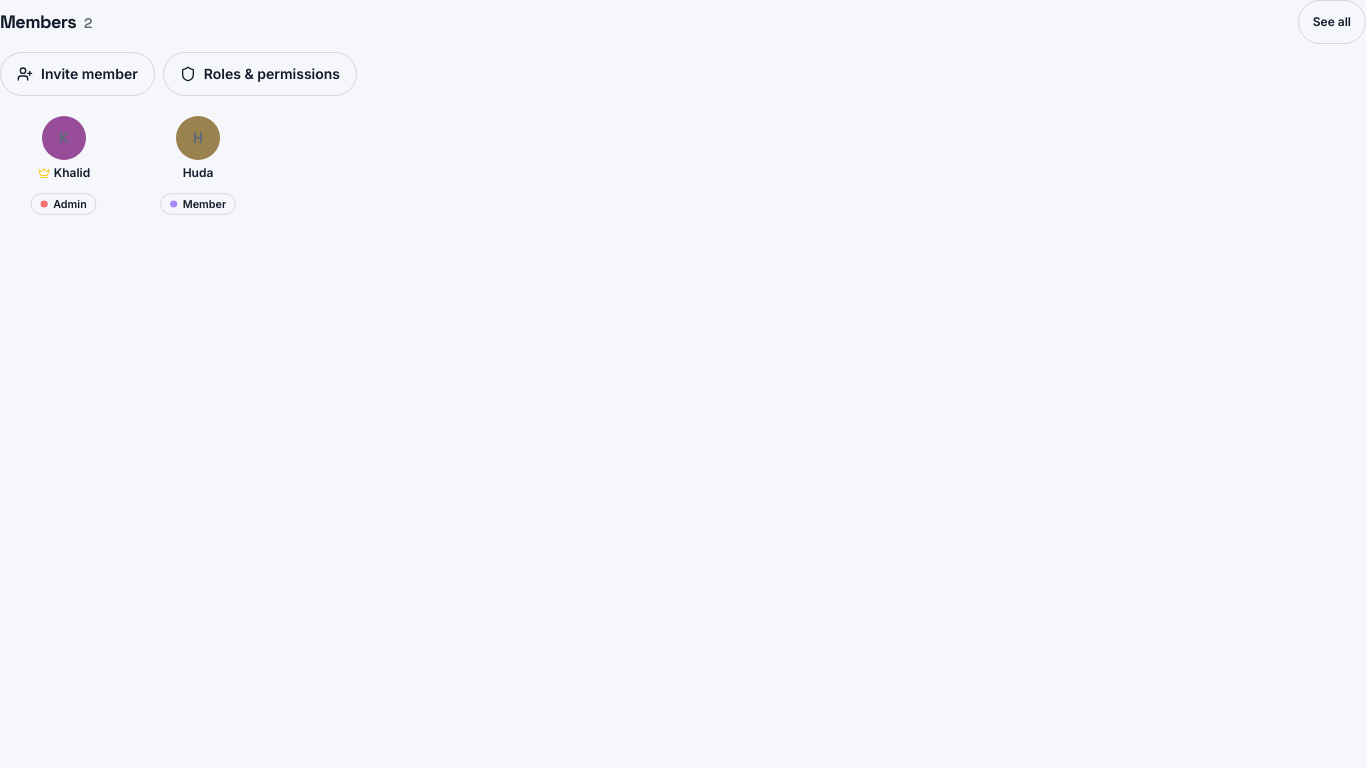
it: Members row › shows where Member works for someone limited to some worlds
What coordinates should you click on to do the following:
click the button with aria-label "Huda’s roles"
I would click on:
 (198, 204)
Its box is [156,182,240,226].
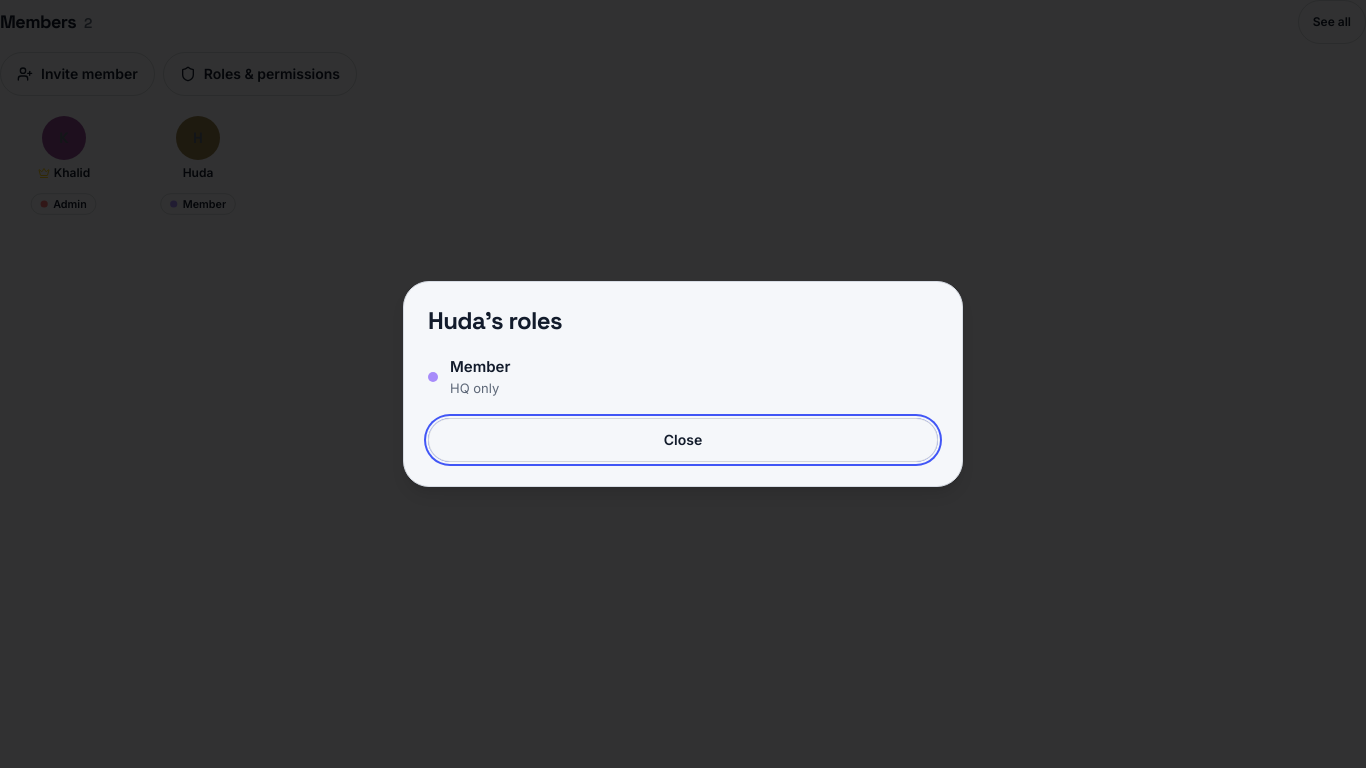
Expected: the list items read "MemberHQ only", in this order, [428,357,510,396]
